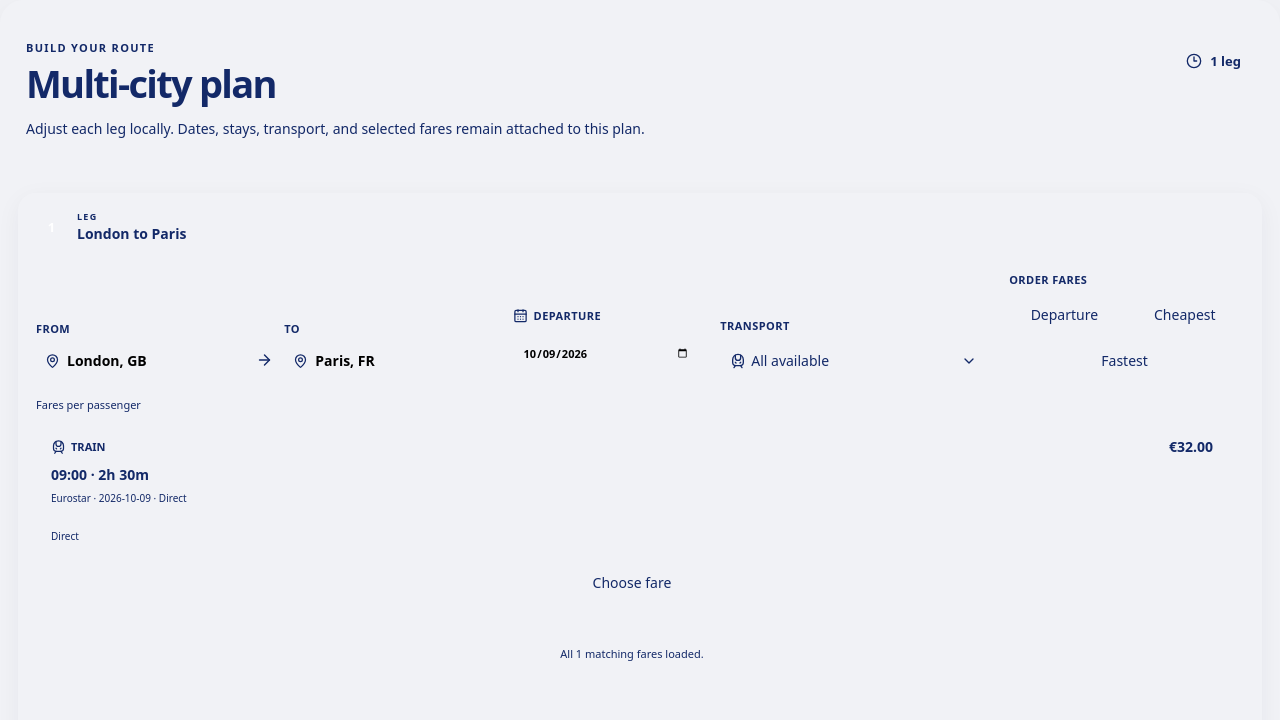
uses a compact icon dropdown in the grid and omits zero-count modes
Click the button with aria-label "Transport: All available": (790, 360) [718, 340, 987, 380]
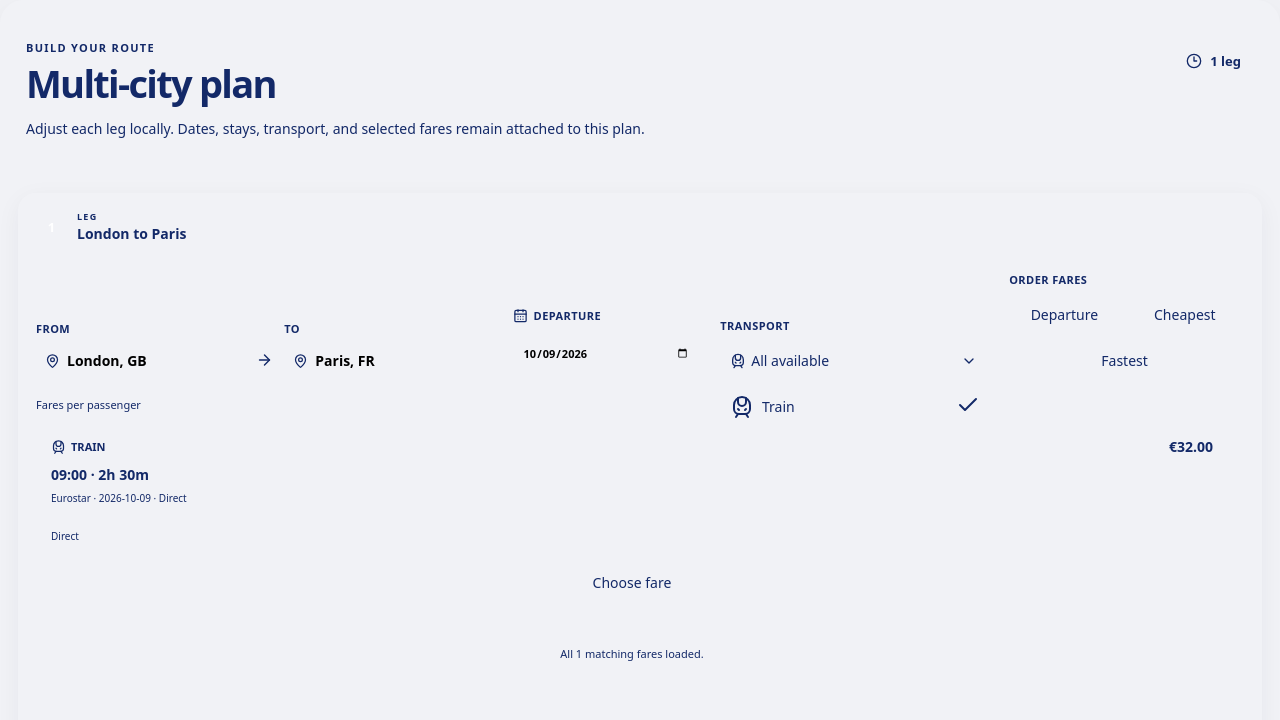
Check: the menu item "Train" is checked, box [722, 389, 983, 425]
